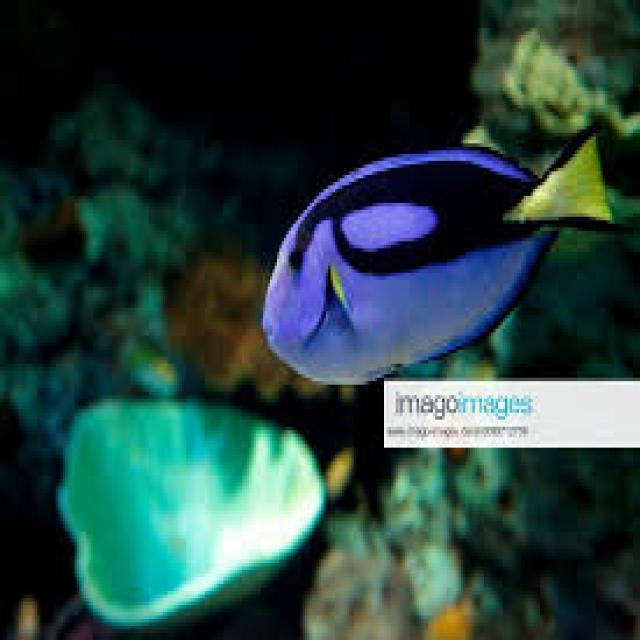TangFish: (254, 129, 622, 384)
